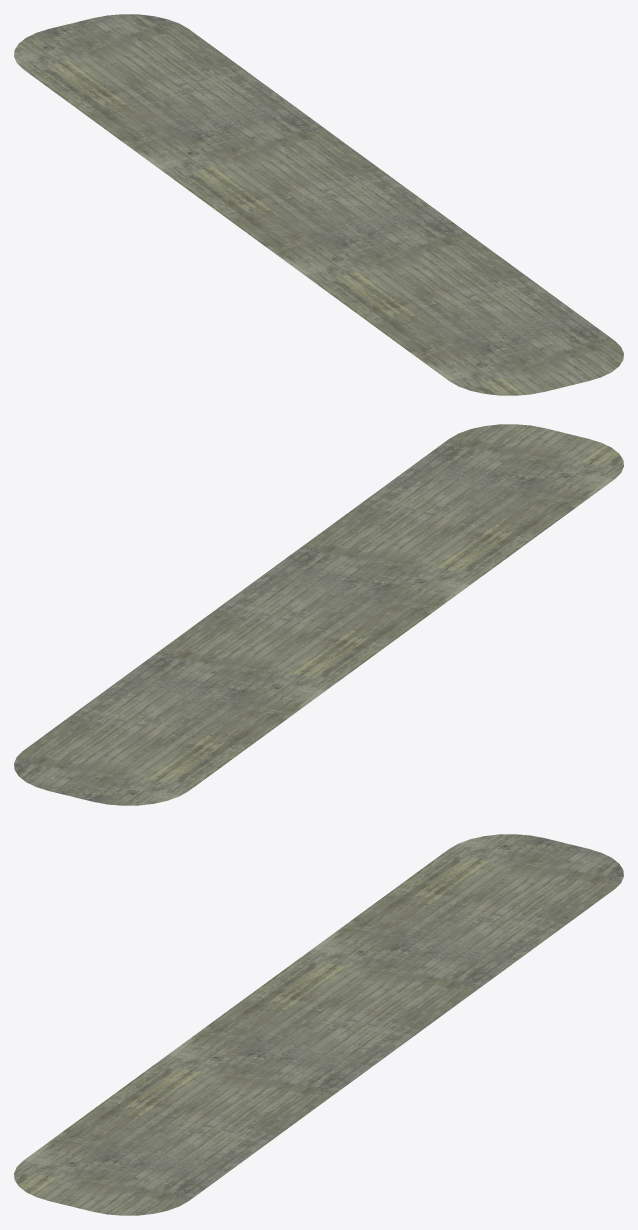
Rendered from SM_NeoLD_10_WaterCol.fbx.
The picture shows the model from 3 angles, top to bottom: view 1: azimuth 30°, elevation 25°; view 2: azimuth 150°, elevation 25°; view 3: azimuth 330°, elevation 25°; orthographic projection.
Visible parts, largest first — view 1: SM_NeoLD_10_WaterCol; view 2: SM_NeoLD_10_WaterCol; view 3: SM_NeoLD_10_WaterCol.
Boxes of the visible parts, x1=… form: SM_NeoLD_10_WaterCol: x1=14, y1=14, x2=623, y2=395; SM_NeoLD_10_WaterCol: x1=14, y1=424, x2=623, y2=805; SM_NeoLD_10_WaterCol: x1=14, y1=834, x2=623, y2=1215.
Size of the model in its own units: 419 by 9.16e-05 by 2172.
